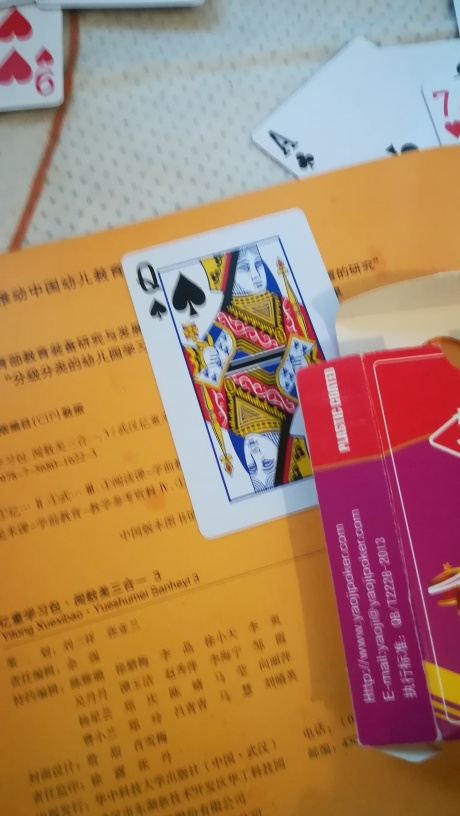ht q: (121, 202, 372, 540)
